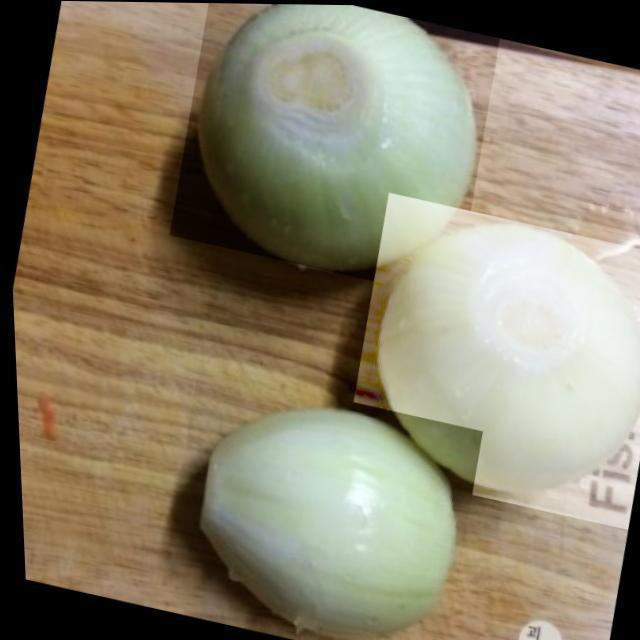Onion: (328, 190, 640, 528), (159, 2, 508, 298), (148, 366, 486, 640)
